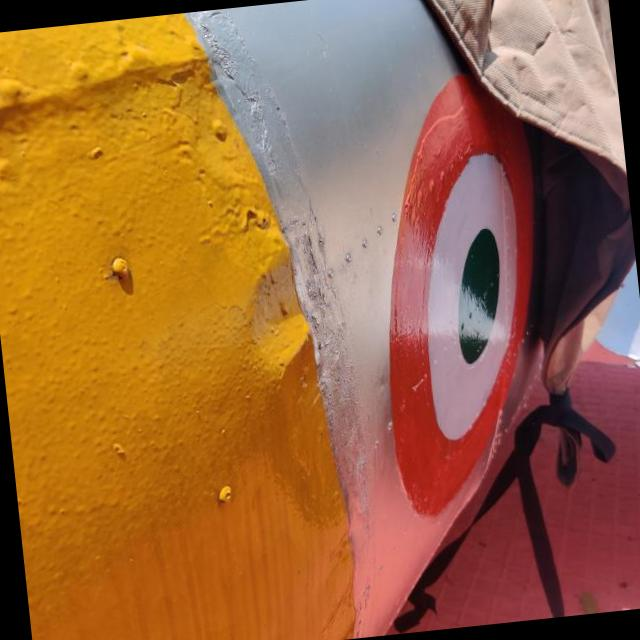Dent: (236, 244, 308, 376)
